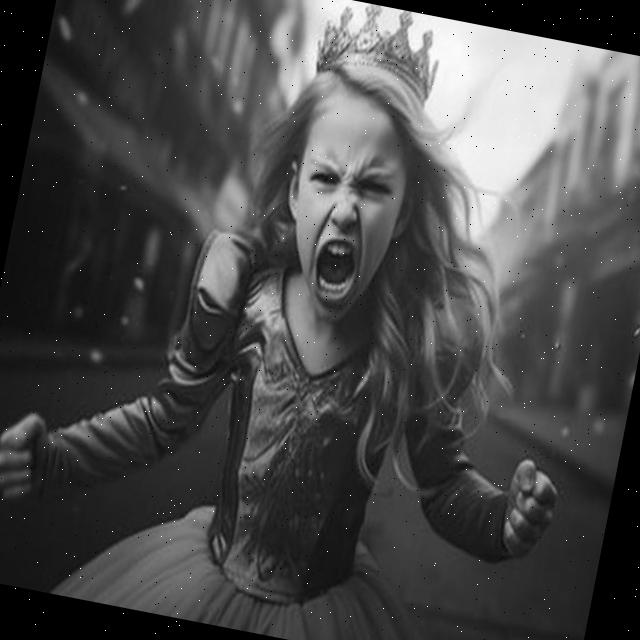Angry: (274, 95, 418, 328)
